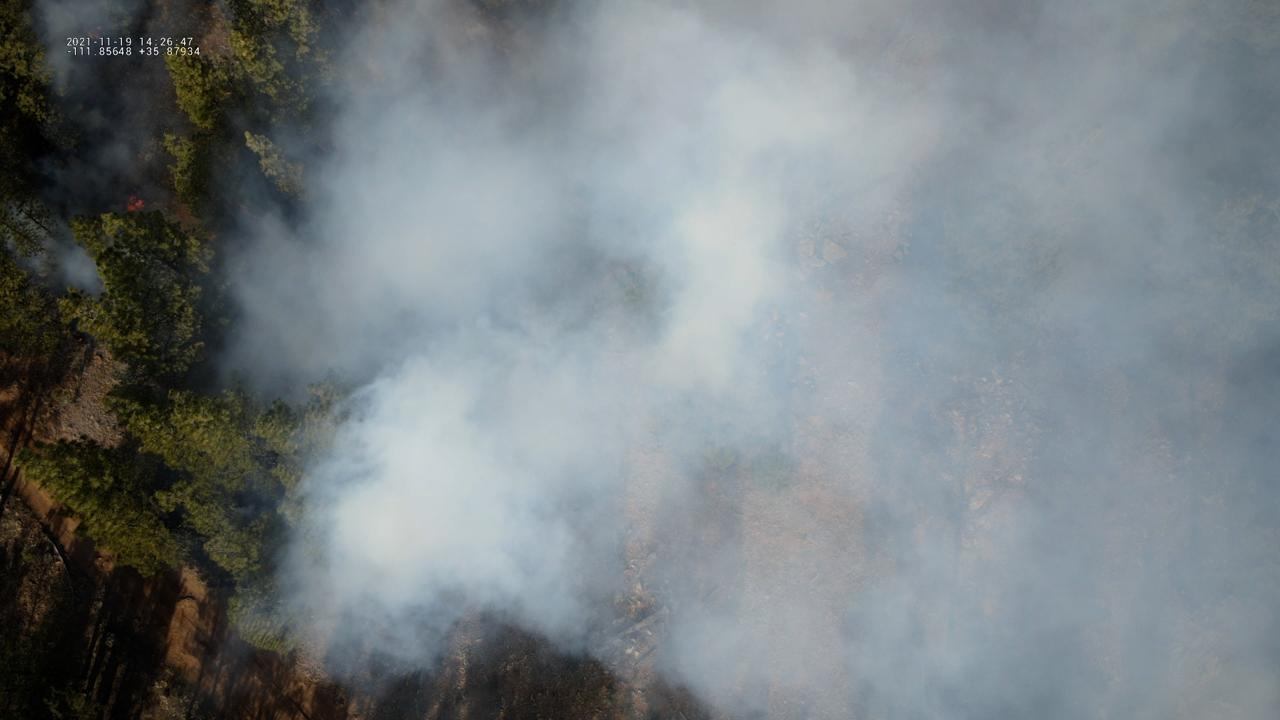fire: (124, 191, 146, 210)
smoke: (0, 0, 1280, 720)
